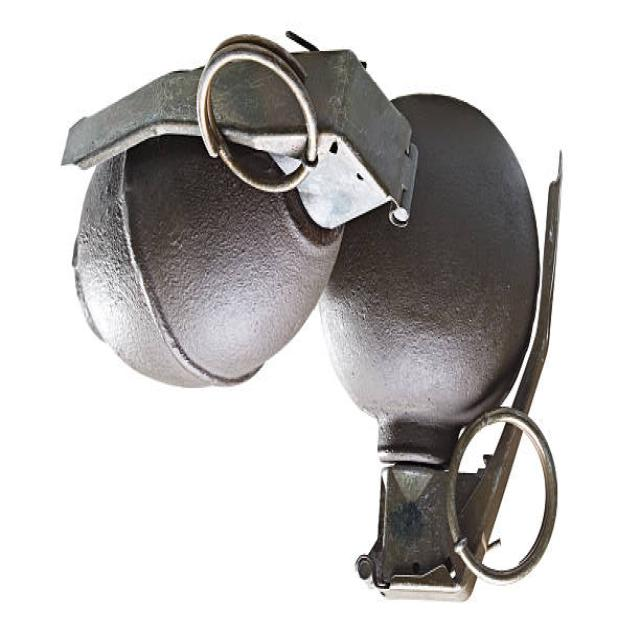grenade: (62, 31, 425, 395), (315, 96, 575, 604)
